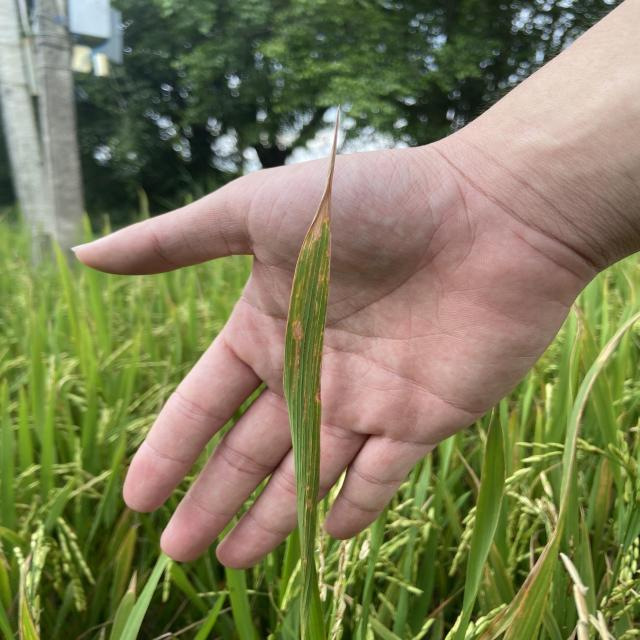Dom soc vi khuan: (291, 319, 305, 402), (311, 338, 318, 375), (303, 393, 308, 421), (295, 282, 302, 298), (315, 301, 318, 315)
